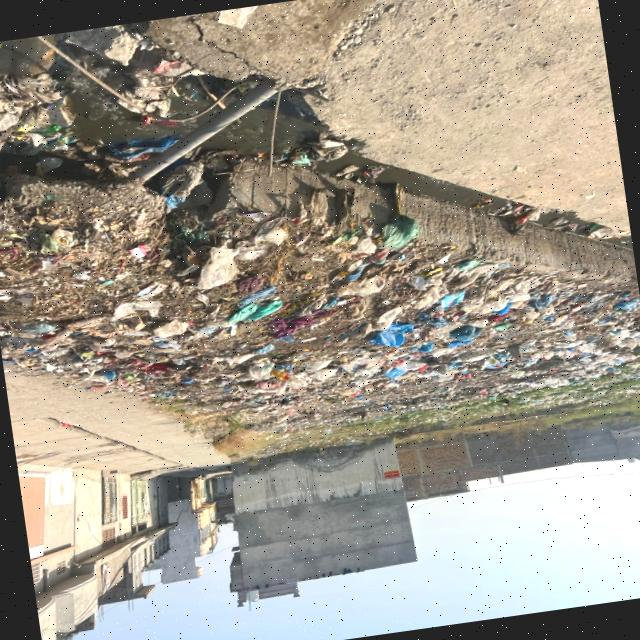garbage: (249, 248, 640, 437), (52, 217, 258, 427)
